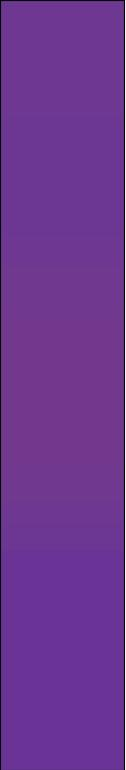safe: (10, 9, 114, 760)
